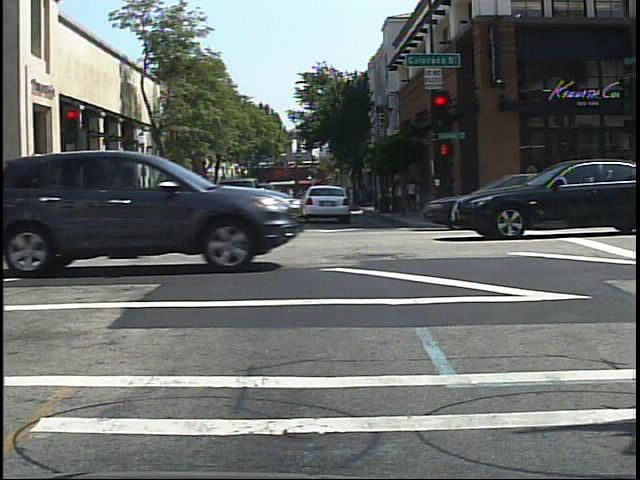person: (160, 181, 178, 217), (89, 188, 104, 229), (138, 181, 156, 212)
